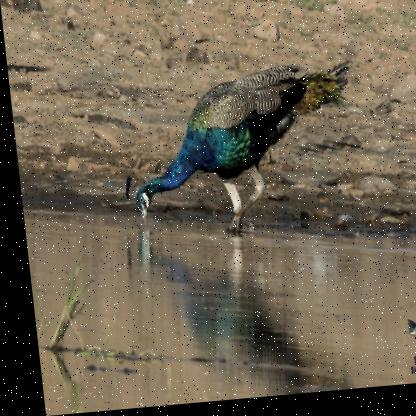Burung: (111, 66, 360, 247)
